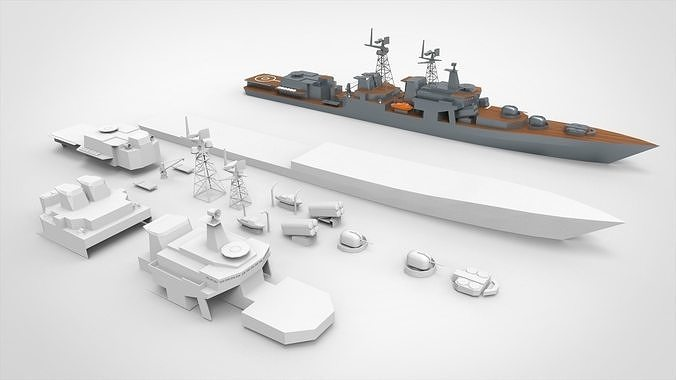Submarine: (243, 72, 657, 165)
